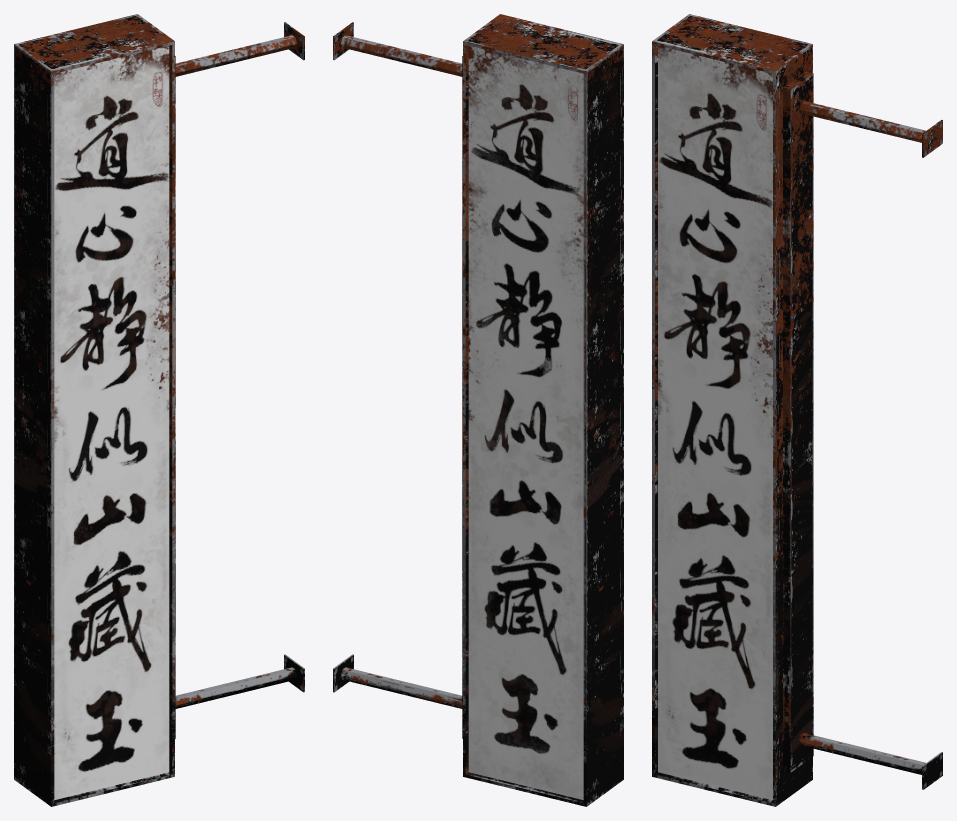
Rendered from NNJ0510025.fbx.
3 views of the same model, side by side, from view 1: azimuth 30°, elevation 25°; view 2: azimuth 150°, elevation 25°; view 3: azimuth 330°, elevation 25° (orthographic).
Visible parts, largest first — view 1: smNNJ0510025; view 2: smNNJ0510025; view 3: smNNJ0510025.
Part boxes in pixels (<box>): smNNJ0510025: <box>14,14,304,806</box>; smNNJ0510025: <box>333,14,623,806</box>; smNNJ0510025: <box>652,14,942,806</box>.
Bounding box in the file's own units: 104 × 278 × 25.6.
Materials: 1 (1 with a texture image).
